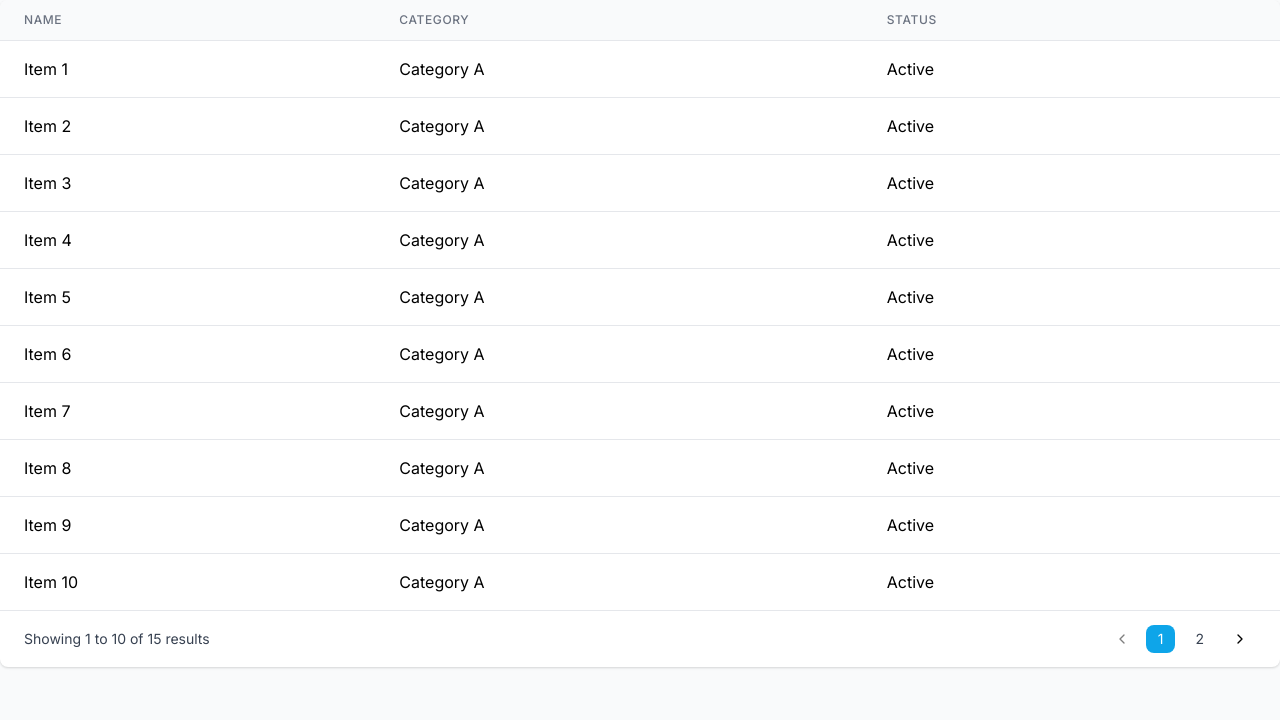
Test: DataTable › navigates to next page when pagination button is clicked
Click the button "2" at point(1200, 639), box 1184,625 -> 1216,653
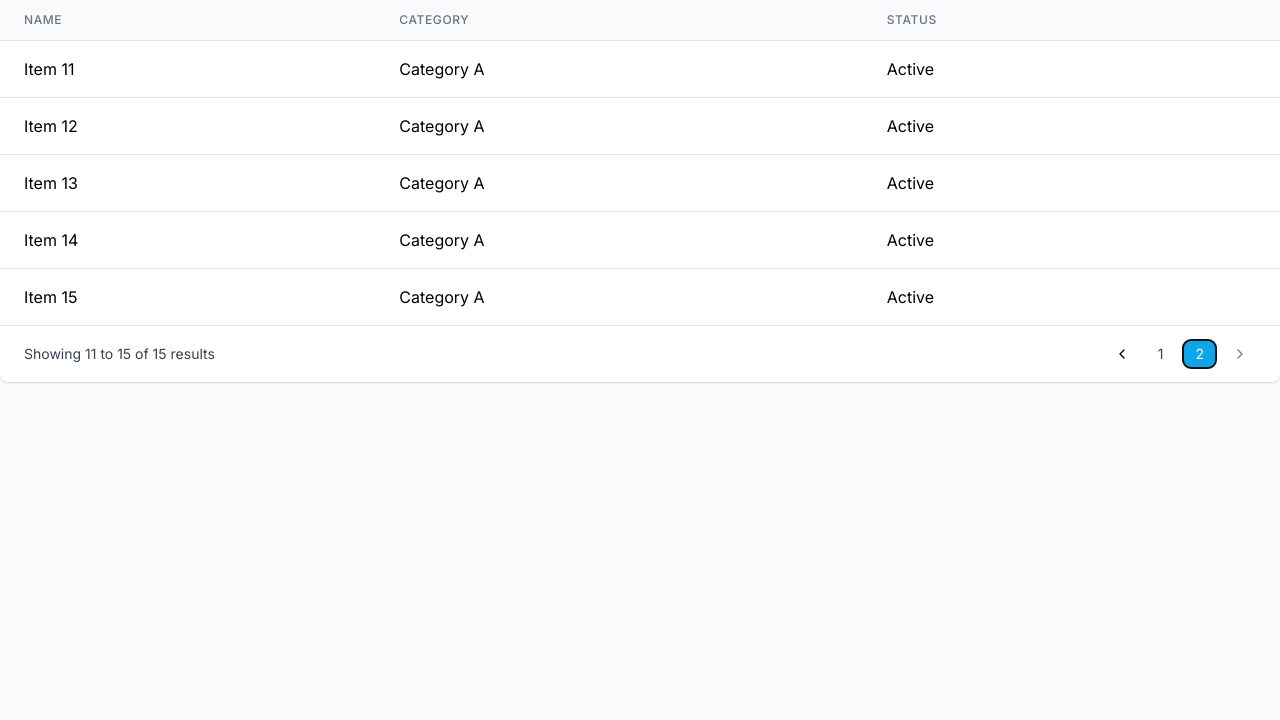
Result: the text "Showing 11 to 15 of 15 results" is shown at 24,344 -> 215,364
